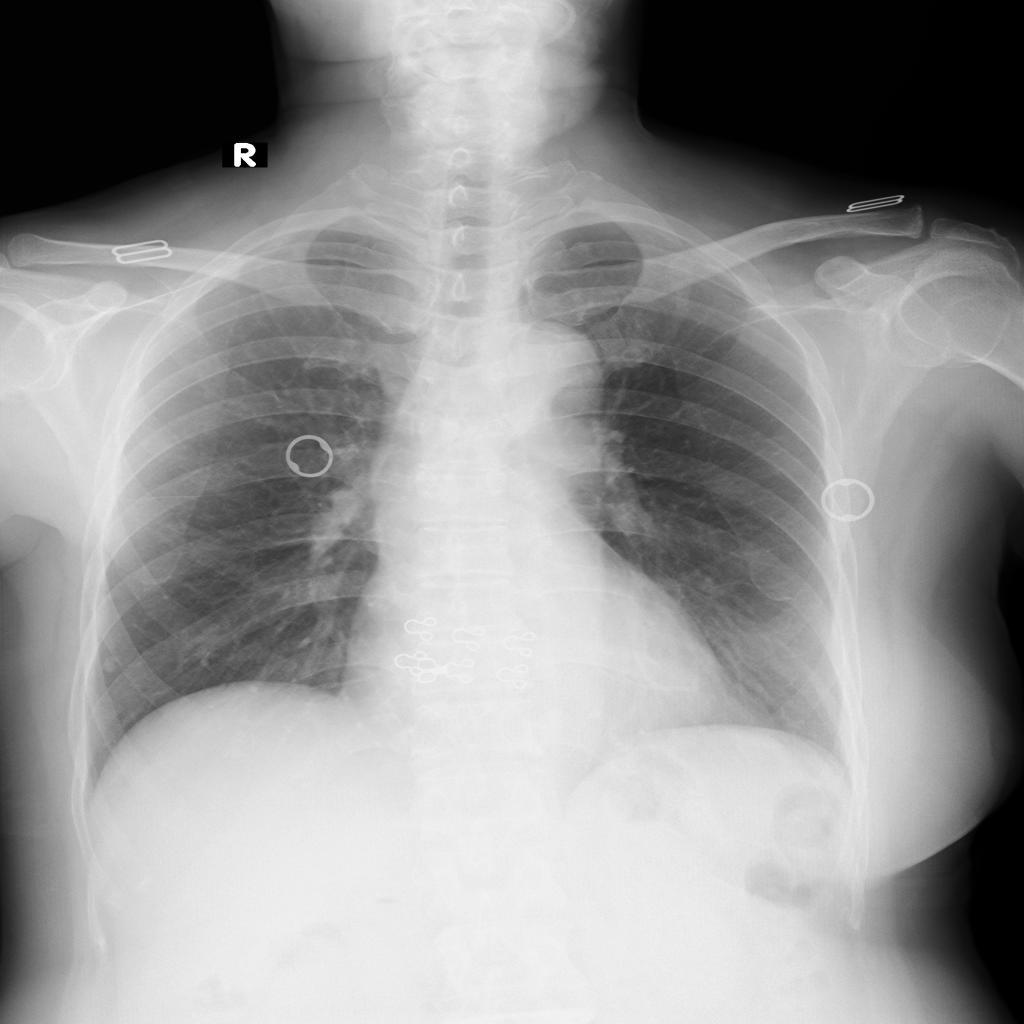Nodule: (101, 656, 118, 675)
